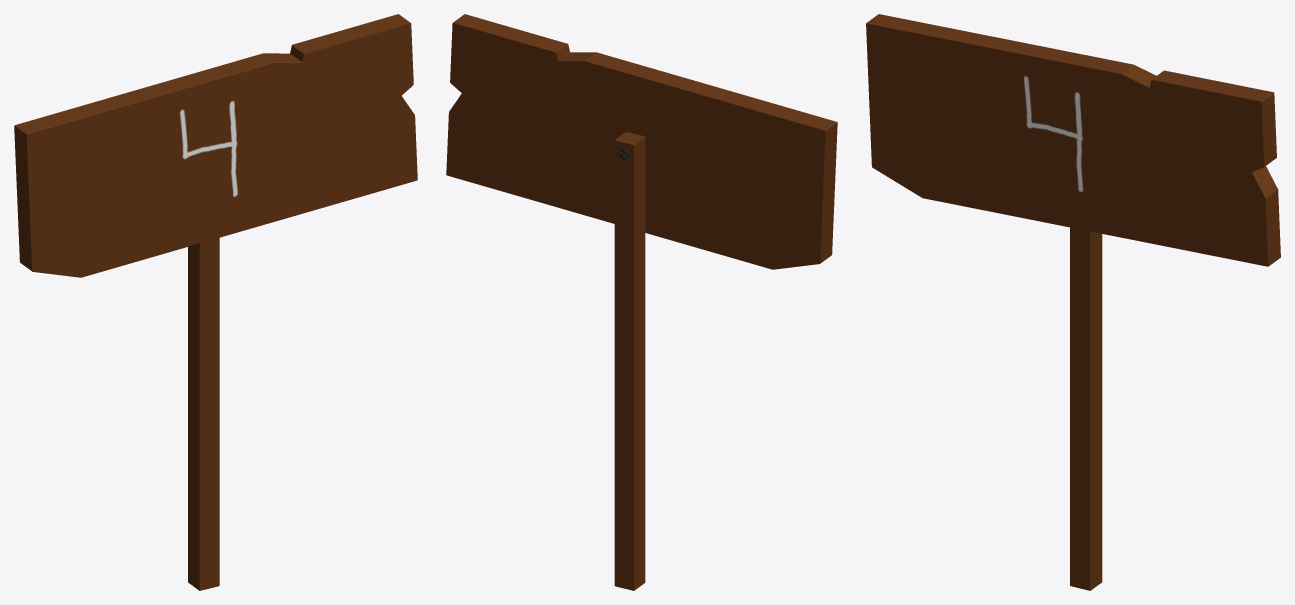
The model's file is sign2.obj.
3 views of the same model, side by side, from view 1: azimuth 30°, elevation 25°; view 2: azimuth 150°, elevation 25°; view 3: azimuth 330°, elevation 25° (orthographic). The views are drawn at different scales.
Parts seen in each view (by area): view 1: Sign_2; view 2: Sign_2; view 3: Sign_2.
Boxes of the visible parts, x1=… form: Sign_2: x1=14, y1=14, x2=417, y2=590; Sign_2: x1=446, y1=14, x2=837, y2=590; Sign_2: x1=866, y1=14, x2=1280, y2=590.
Size of the model in its own units: 2.03 by 2.62 by 0.228.
